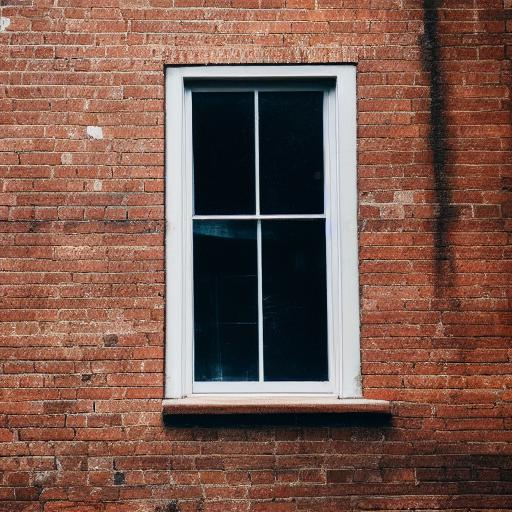Window: (162, 62, 393, 416)
